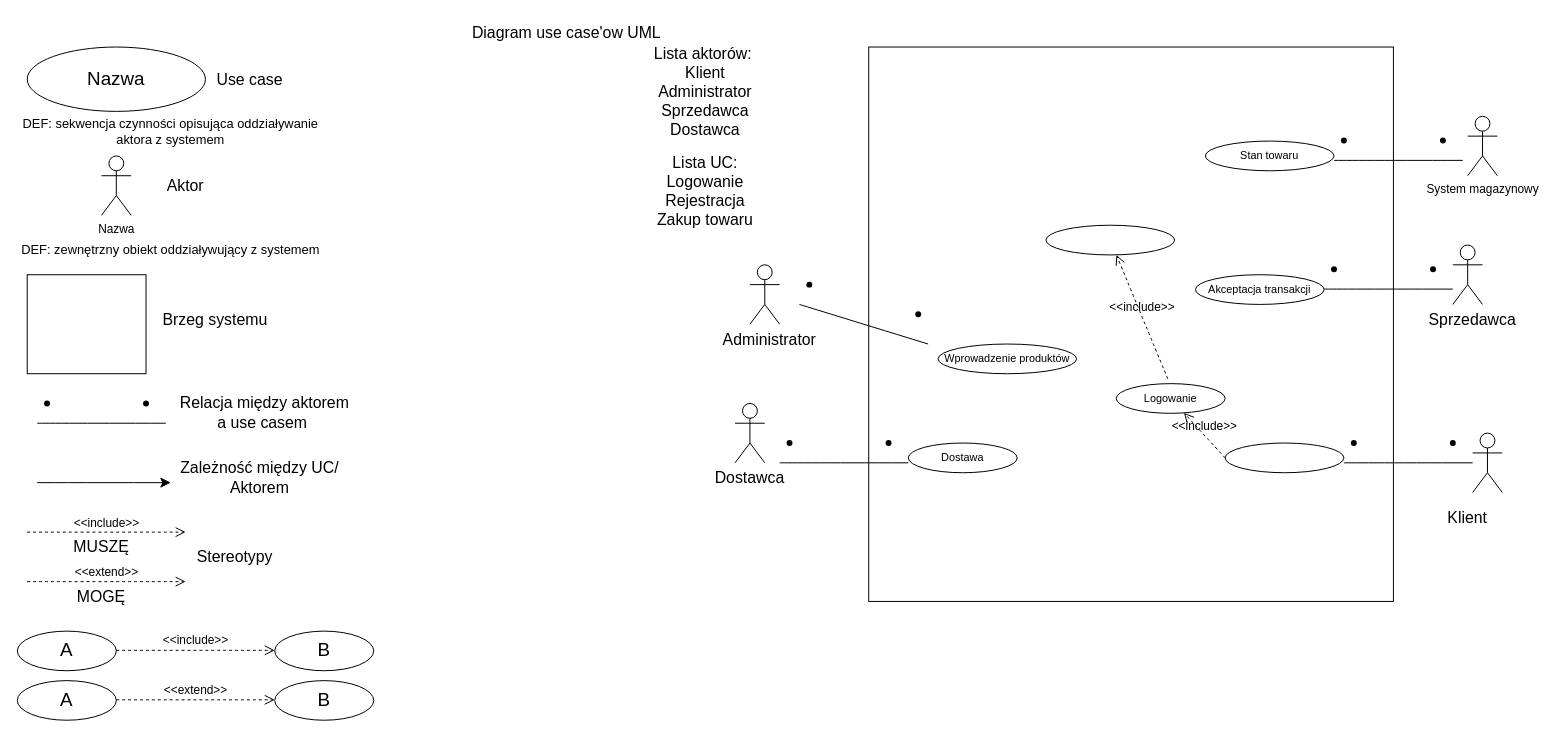
The diagram is 1555 pixels wide and 738 high, and some of its shapes have lost their labels. The box of each missing label's shape, as (x1, y1, x2, y2) in pixels:
Nazwa aplikacji systemu: (26, 274, 146, 374)
Rejestracja: (1224, 442, 1344, 473)
Sklep internetowy: (868, 46, 1393, 601)
Zakup towaru: (1045, 224, 1175, 255)
